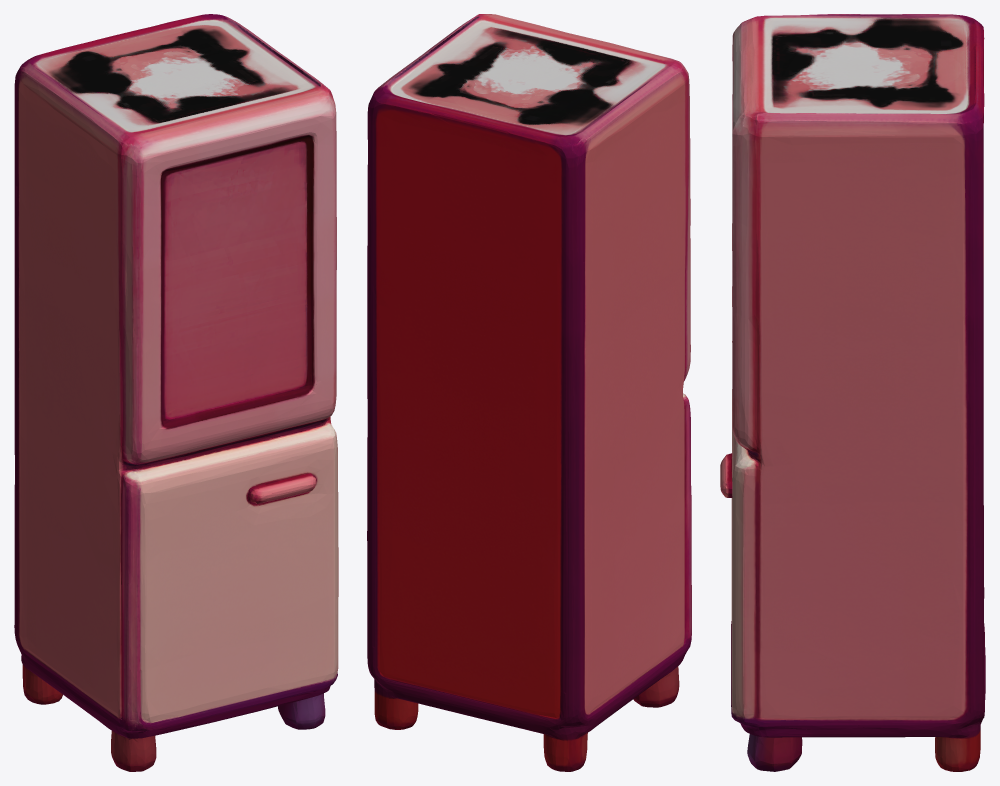
The picture shows the model from 3 angles, left to right: view 1: azimuth 30°, elevation 25°; view 2: azimuth 150°, elevation 25°; view 3: azimuth 270°, elevation 25°; orthographic projection. The views are drawn at different scales.
Parts seen in each view (by area): view 1: world; view 2: world; view 3: world.
Boxes of the visible parts, x1,y1,x2,y2 form: world: [14, 14, 338, 771]; world: [367, 14, 691, 771]; world: [720, 14, 985, 771].
Size of the model in its own units: 35.53 by 99.87 by 36.46.
Materials: 1 (1 with a texture image).
